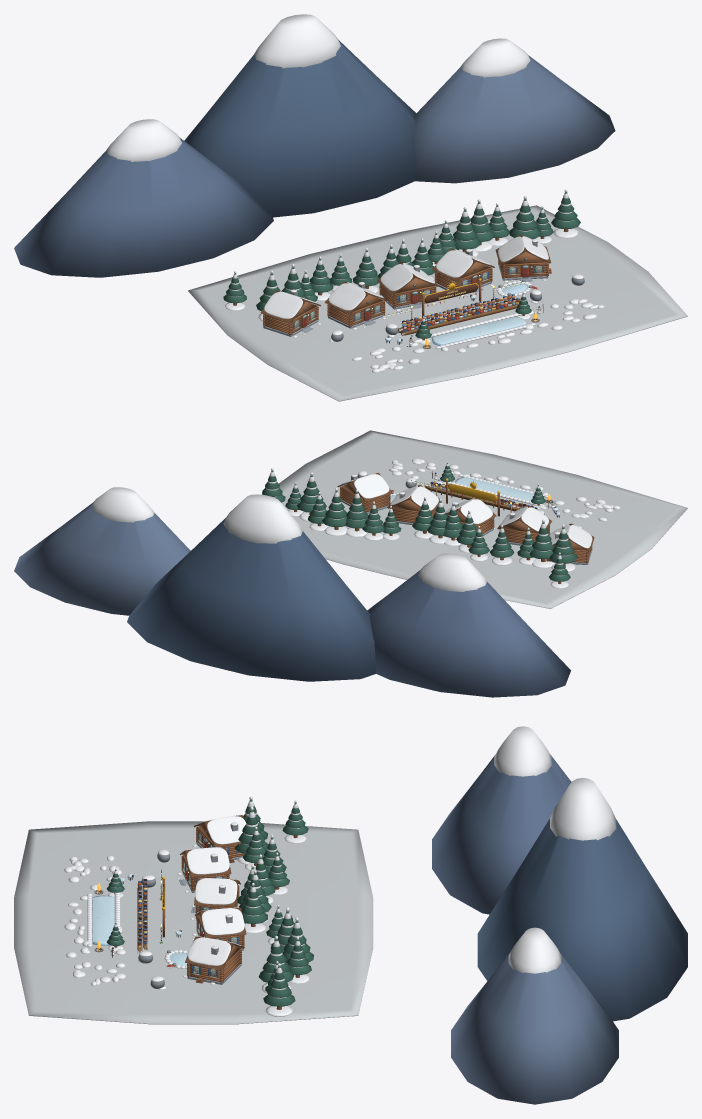
File: nieveclara.glb
The picture shows the model from 3 angles, top to bottom: view 1: azimuth 30°, elevation 25°; view 2: azimuth 150°, elevation 25°; view 3: azimuth 270°, elevation 25°; orthographic projection. The views are drawn at different scales.
Parts seen in each view (by area): view 1: estatico 0, estatico 1; view 2: estatico 0, estatico 1; view 3: estatico 0, estatico 1.
Boxes of the visible parts, bbox=[...] form: estatico 0: bbox=[14, 14, 687, 401]; estatico 1: bbox=[260, 235, 551, 322]; estatico 0: bbox=[14, 430, 687, 697]; estatico 1: bbox=[337, 472, 594, 551]; estatico 0: bbox=[14, 726, 687, 1104]; estatico 1: bbox=[169, 815, 246, 971].
Size of the model in its own units: 125 by 30.08 by 113.
